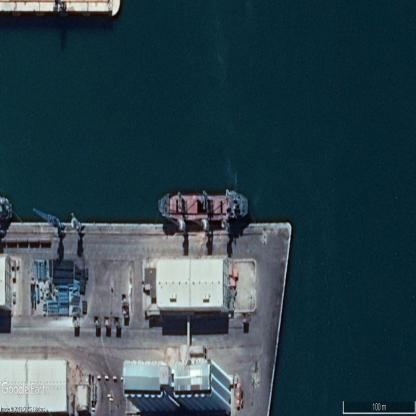ship: (157, 193, 247, 220)
